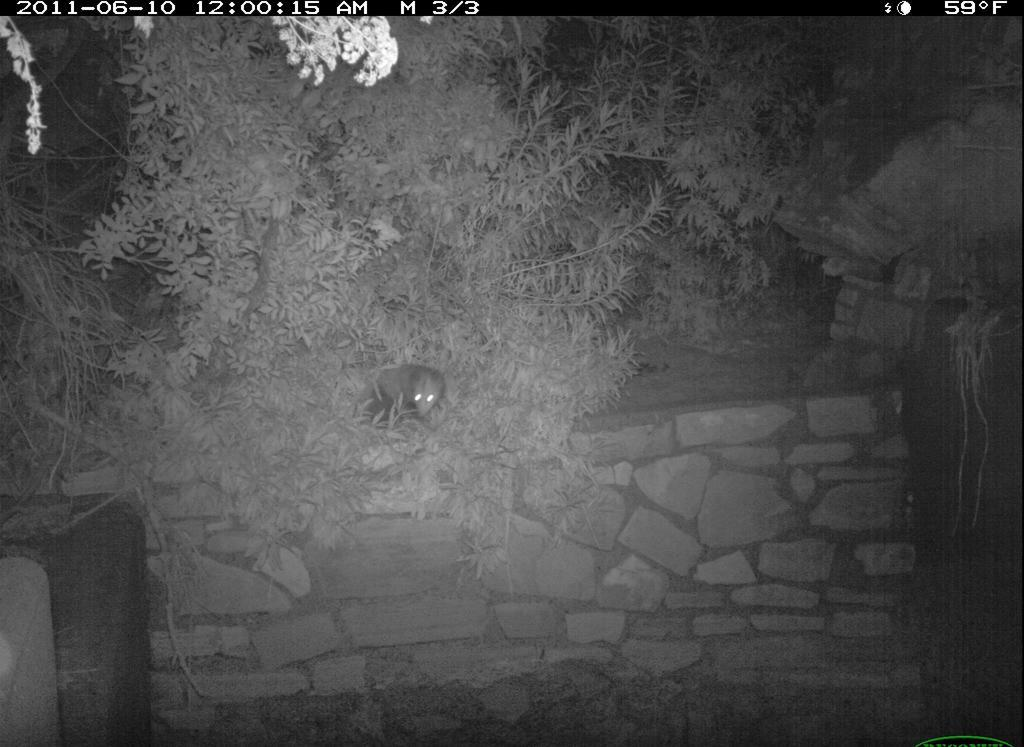opossum: (345, 349, 463, 436)
